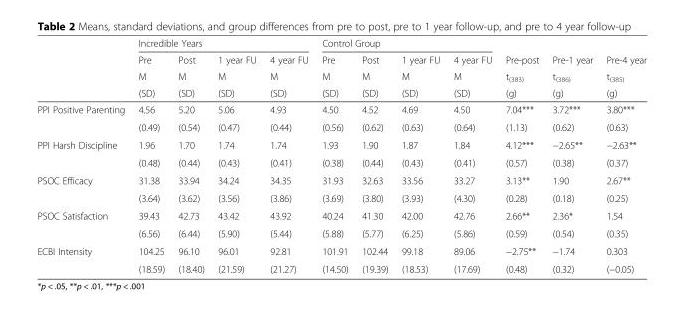table: (36, 37, 646, 274)
table column: (36, 37, 131, 274), (545, 37, 598, 274), (210, 37, 262, 274), (262, 37, 314, 274), (394, 37, 446, 274), (446, 37, 498, 274), (598, 37, 646, 274), (498, 37, 545, 274), (170, 37, 210, 274), (314, 37, 354, 274), (354, 37, 394, 274), (131, 37, 170, 274)
table column header: (36, 37, 646, 100)
table row: (36, 100, 646, 118), (36, 135, 646, 153), (36, 153, 646, 171), (36, 188, 646, 206), (36, 206, 646, 224), (36, 241, 646, 259), (36, 67, 646, 84), (36, 118, 646, 135), (36, 171, 646, 188), (36, 224, 646, 241), (36, 51, 646, 67), (36, 84, 646, 100), (36, 259, 646, 274), (36, 37, 646, 51)
table spanning cell: (36, 135, 131, 171), (545, 37, 598, 100), (36, 100, 131, 135), (36, 171, 131, 206), (36, 206, 131, 241), (36, 241, 131, 274), (598, 37, 646, 100), (498, 37, 545, 100), (314, 37, 498, 51), (131, 37, 314, 51), (210, 51, 262, 100), (262, 51, 314, 100), (394, 51, 446, 100), (446, 51, 498, 100), (170, 51, 210, 100), (314, 51, 354, 100), (354, 51, 394, 100), (131, 51, 170, 100)
